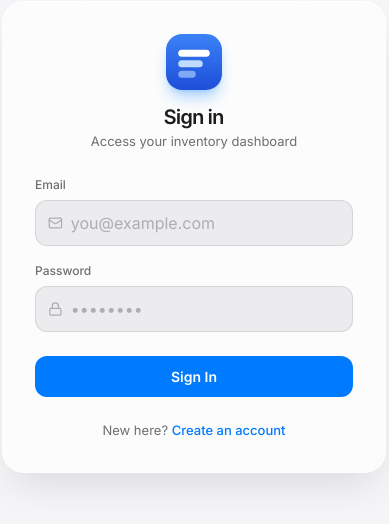
Test: Login error reporting › still says wrong password for an ordinary 401
Type "someone@example.com" into the field labelled "Email" at coordinates (205, 222), box [71,210,340,234]
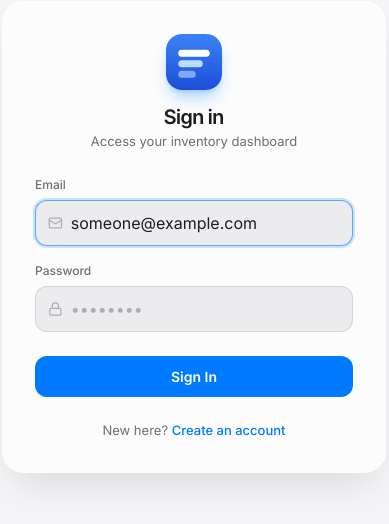
Type "whatever" into the password field labelled "Password" at coordinates (205, 308), box [71,296,340,320]
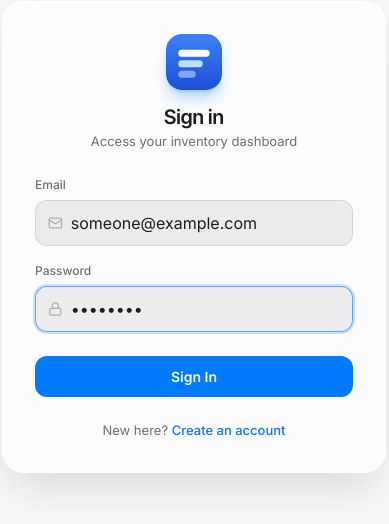
Click the button "Sign In" at coordinates (194, 376), box [35,356,353,396]
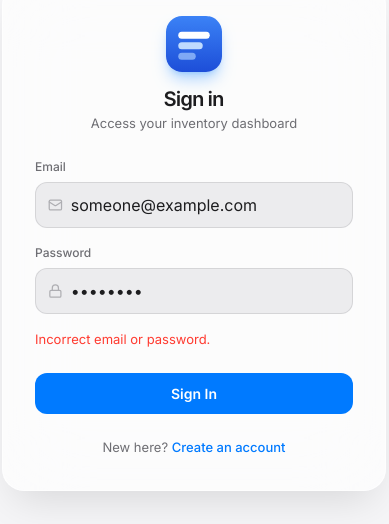
Check: the text "Incorrect email or password." is shown, box [35,331,210,347]
